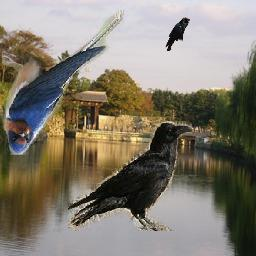Crow: (68, 121, 192, 231), (166, 17, 191, 51)
Swallow: (2, 11, 124, 156)
